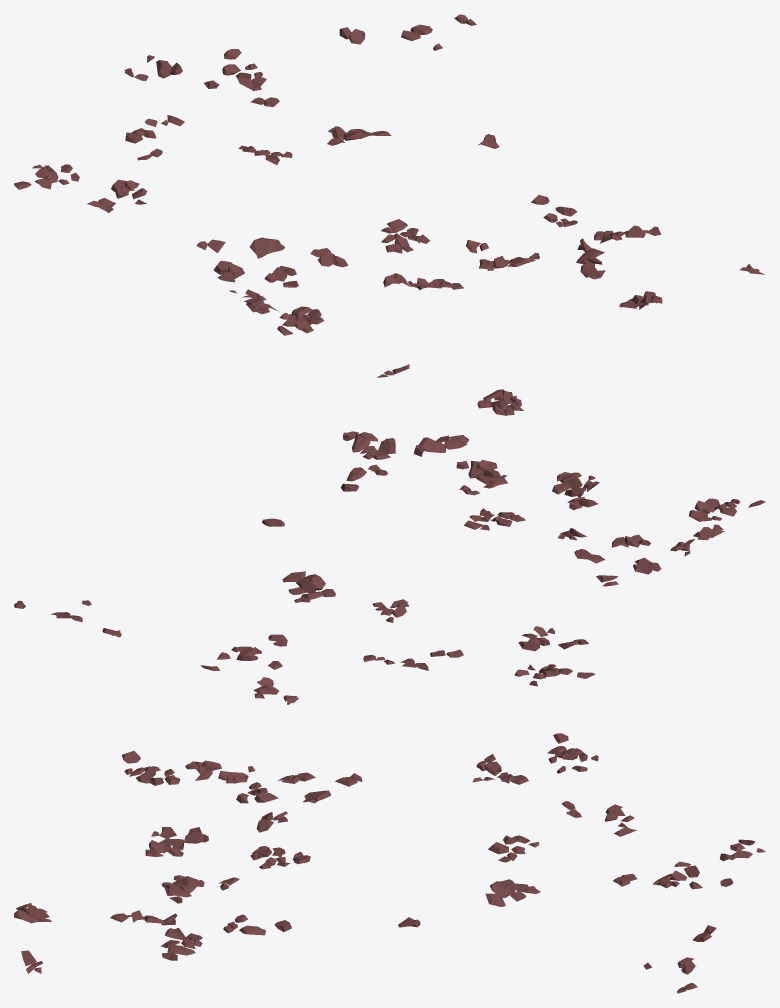
Rendered from Collisions.fbx.
The picture shows the model from 3 angles, top to bottom: view 1: azimuth 30°, elevation 25°; view 2: azimuth 150°, elevation 25°; view 3: azimuth 270°, elevation 25°; orthographic projection.
Parts seen in each view (by area): view 1: QQtr_kolize_005; view 2: QQtr_kolize_005; view 3: QQtr_kolize_010.
Part boxes in pixels (left/top/right/bottom): QQtr_kolize_005: left=576, top=248, right=605, bottom=279; QQtr_kolize_005: left=418, top=435, right=468, bottom=452; QQtr_kolize_010: left=223, top=914, right=291, bottom=935.
Bounding box in the file's own units: 8813 × 334 × 11156.
